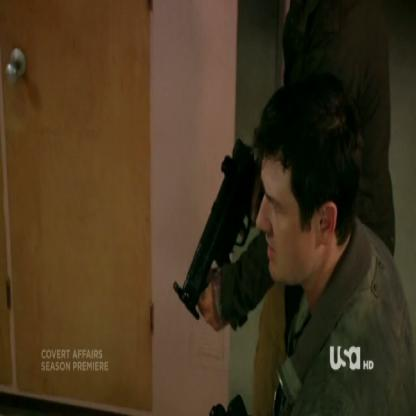Guns: (169, 134, 265, 324)
